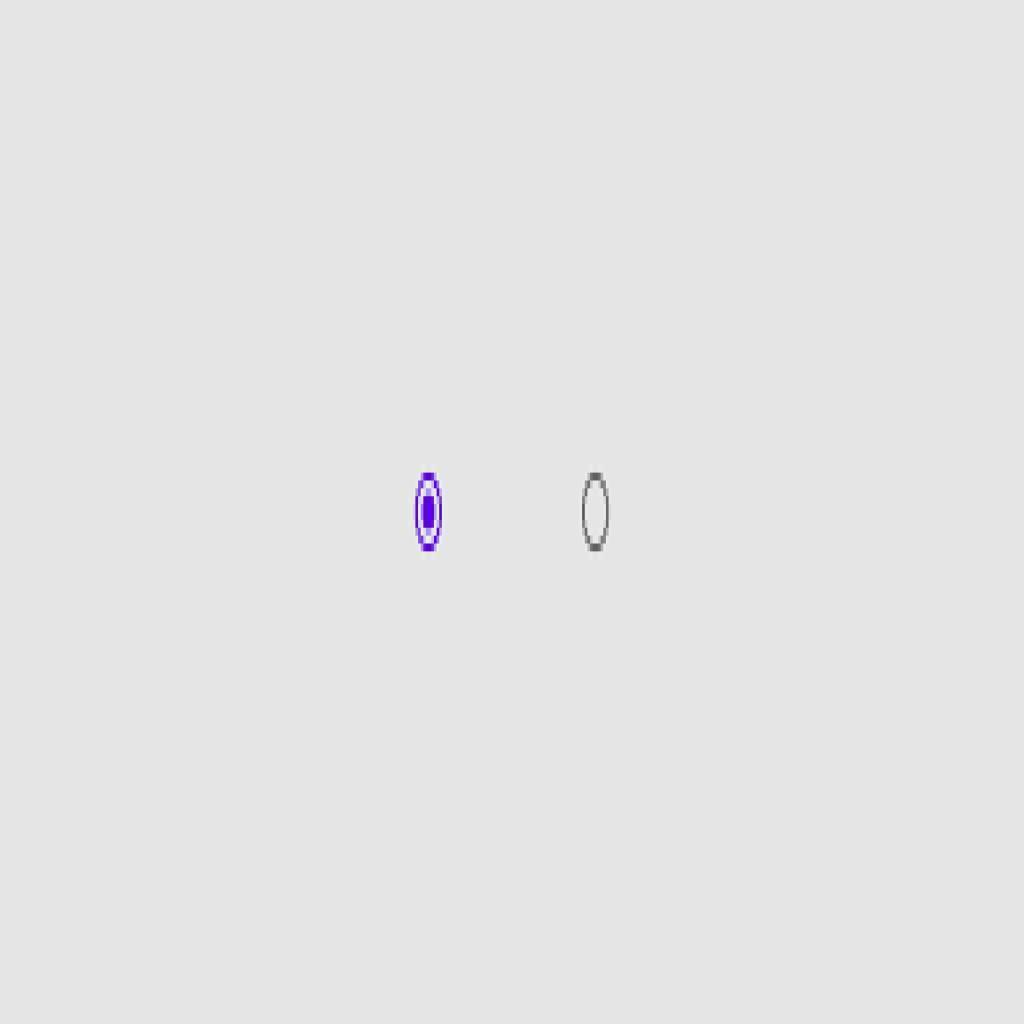radio: (579, 471, 613, 553), (415, 470, 441, 554)
